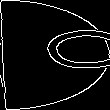O_W: (4, 33, 106, 77)
